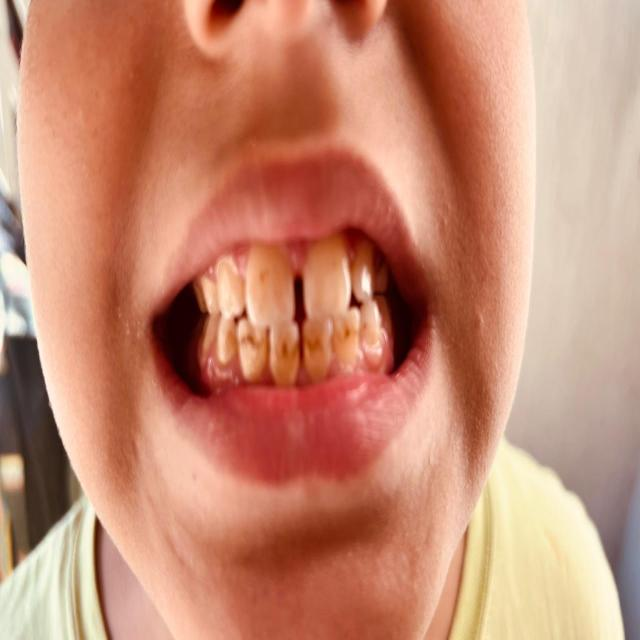tooth: (247, 253, 295, 326), (309, 256, 347, 310), (309, 311, 332, 365), (350, 253, 375, 300), (271, 329, 295, 376), (219, 268, 241, 318), (242, 322, 261, 369), (343, 310, 359, 358), (366, 306, 384, 346), (220, 319, 233, 360)
